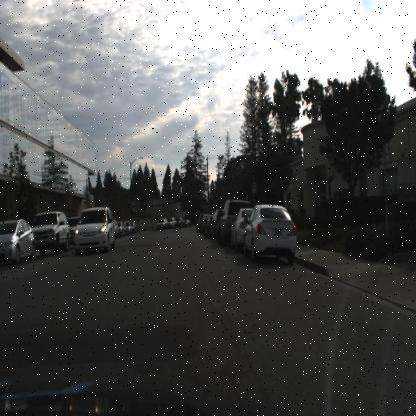car: (242, 198, 298, 262), (74, 202, 116, 254), (0, 218, 37, 267), (32, 209, 73, 253), (230, 206, 246, 253), (216, 199, 232, 245), (154, 216, 170, 233)
